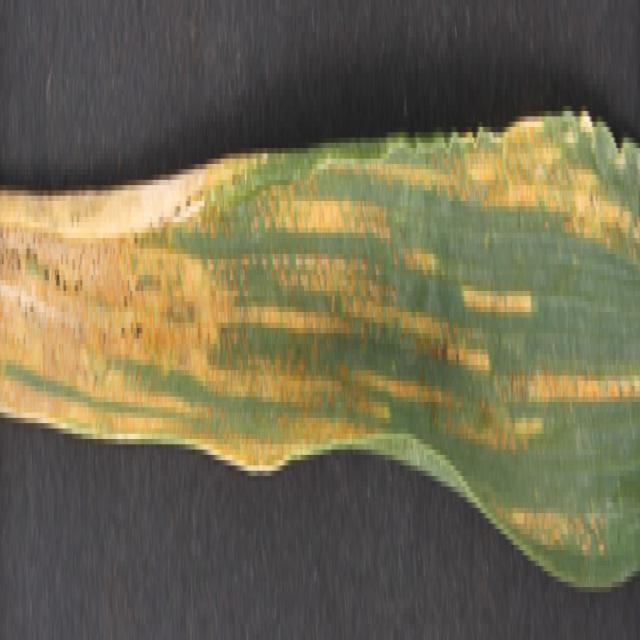leaf rust: (1, 116, 638, 540)
